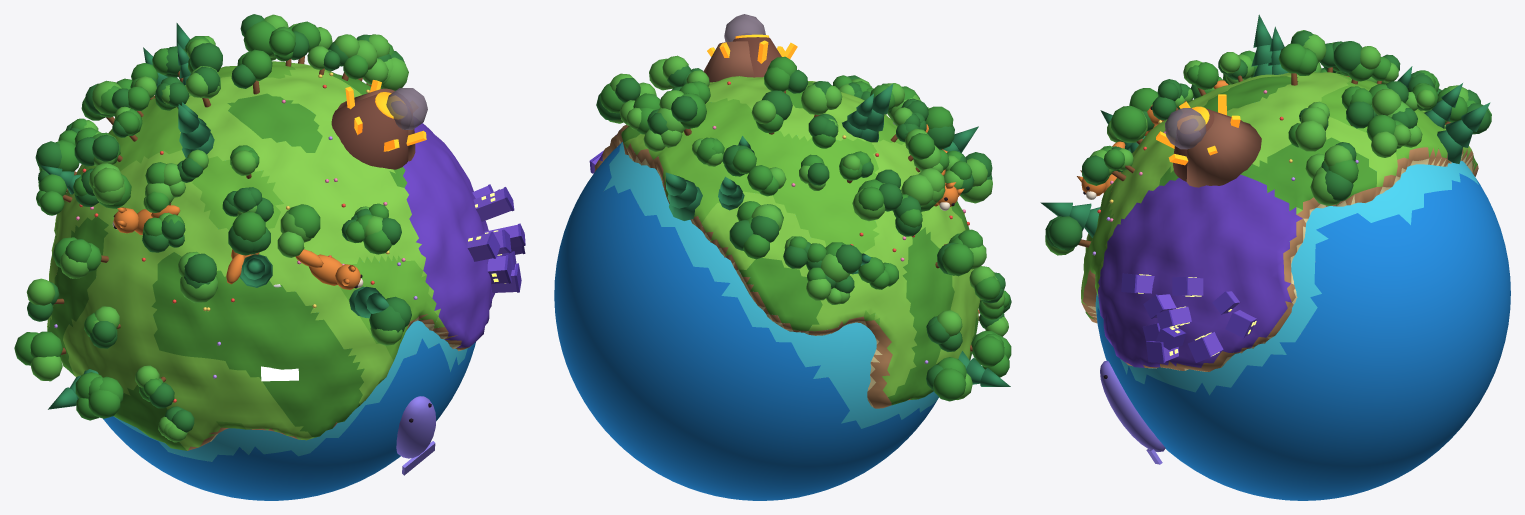
Rendered from planet.glb.
3 renders of one model, left to right at view 1: azimuth 30°, elevation 25°; view 2: azimuth 150°, elevation 25°; view 3: azimuth 270°, elevation 25°, orthographic. The views are drawn at different scales.
Parts seen in each view (by area): view 1: land, ocean, volcano, whale, tree.009, tree.034, tree.055, tree.031, fox.001, tree.013, tree.044, tree.059 (+41 smaller); view 2: ocean, land, volcano, tree.050, tree.053, tree.034, tree.051, tree.009, tree.026, tree.059, tree.048, tree.004 (+34 smaller); view 3: ocean, land, volcano, whale, tree.026, tree.022, tree.048, smoke, tree.013, tree.017, tree.031, tree.005 (+24 smaller).
Boxes of the visible parts, x1=… form: land: x1=47, y1=61, x2=494, y2=450; ocean: x1=103, y1=320, x2=475, y2=500; volcano: x1=331, y1=80, x2=426, y2=169; whale: x1=396, y1=396, x2=435, y2=475; tree.009: x1=75, y1=372, x2=123, y2=420; tree.034: x1=14, y1=331, x2=66, y2=381; tree.055: x1=178, y1=251, x2=217, y2=302; tree.031: x1=277, y1=204, x2=320, y2=257; fox.001: x1=295, y1=249, x2=363, y2=289; tree.013: x1=328, y1=34, x2=376, y2=80; tree.044: x1=228, y1=211, x2=270, y2=255; tree.059: x1=89, y1=163, x2=131, y2=208; ocean: x1=554, y1=142, x2=938, y2=500; land: x1=594, y1=76, x2=980, y2=408; volcano: x1=703, y1=34, x2=797, y2=82; tree.050: x1=657, y1=90, x2=706, y2=135; tree.053: x1=729, y1=215, x2=778, y2=259; tree.034: x1=926, y1=357, x2=972, y2=401; tree.051: x1=852, y1=179, x2=902, y2=221; tree.009: x1=970, y1=330, x2=1011, y2=377; tree.026: x1=751, y1=90, x2=792, y2=134; tree.059: x1=901, y1=168, x2=945, y2=211; tree.048: x1=665, y1=172, x2=702, y2=220; tree.004: x1=821, y1=242, x2=861, y2=282; ocean: x1=1095, y1=161, x2=1510, y2=500; land: x1=1081, y1=72, x2=1478, y2=371; volcano: x1=1156, y1=94, x2=1261, y2=187; whale: x1=1100, y1=360, x2=1165, y2=464; tree.026: x1=1333, y1=41, x2=1380, y2=84; tree.022: x1=1366, y1=114, x2=1411, y2=157; tree.048: x1=1437, y1=102, x2=1490, y2=163; smoke: x1=1165, y1=108, x2=1206, y2=149; tree.013: x1=1288, y1=107, x2=1328, y2=151; tree.017: x1=1045, y1=216, x2=1091, y2=255; tree.031: x1=1107, y1=106, x2=1147, y2=144; tree.005: x1=1310, y1=166, x2=1353, y2=206.
Size of the model in its own units: 2.45 by 2.3 by 2.29.
